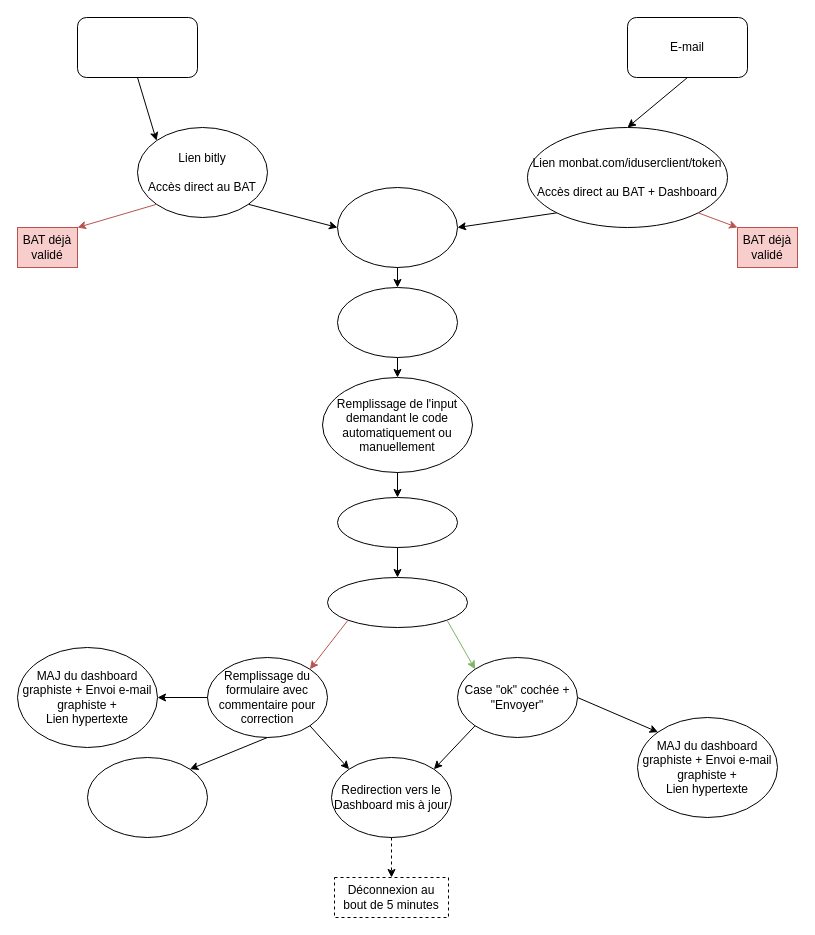
This 815x935 diagram has some shape labels left out. Each missing label, with the box of its shape:
Authentification (06 ou 07): (336, 186, 458, 268)
Possibilité de télécharger le PDF encodé sans pouvoir le modifier: (86, 756, 208, 838)
Redirection sur BAT: (336, 496, 458, 548)
SMS: (76, 16, 198, 78)
SMS avec code à 4 chiffres: (336, 286, 458, 358)
Validation par le client ?: (326, 576, 468, 628)
